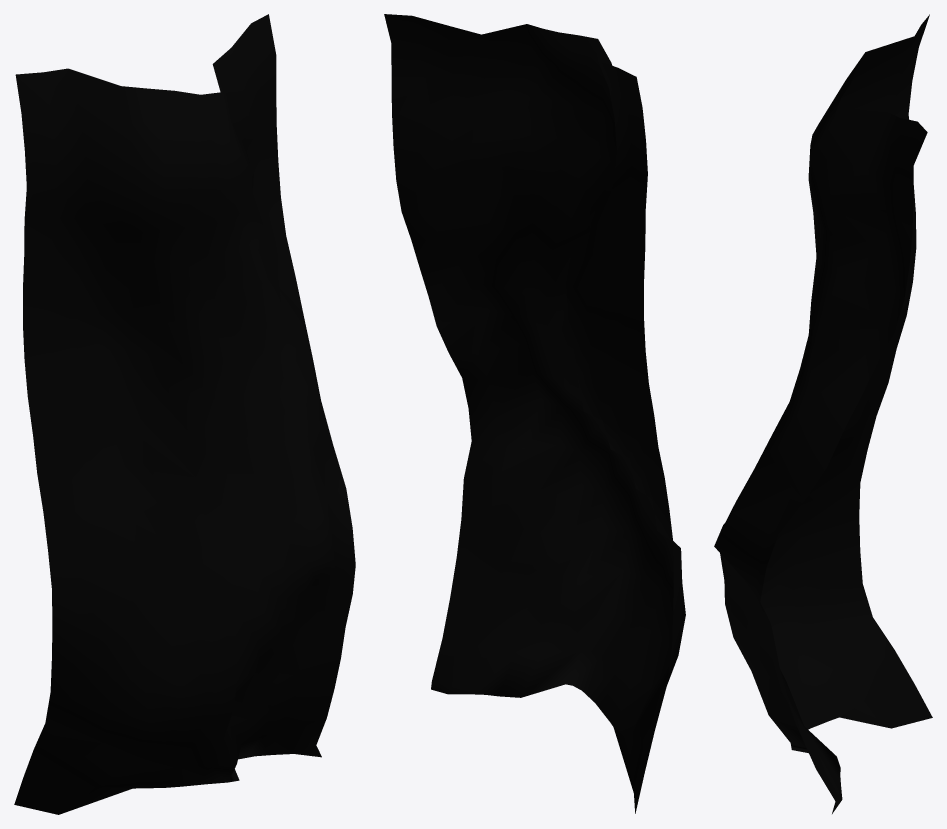
File: suture.FBX
The picture shows the model from 3 angles, left to right: view 1: azimuth 30°, elevation 25°; view 2: azimuth 150°, elevation 25°; view 3: azimuth 270°, elevation 25°; orthographic projection. The views are drawn at different scales.
Visible parts, largest first — view 1: Plane001; view 2: Plane001; view 3: Plane001.
Part boxes in pixels (x1,y1,x2,y2): Plane001: [14, 14, 355, 814]; Plane001: [384, 14, 685, 813]; Plane001: [714, 14, 932, 813].
Bounding box in the file's own units: 17.69 × 48.4 × 13.64.
